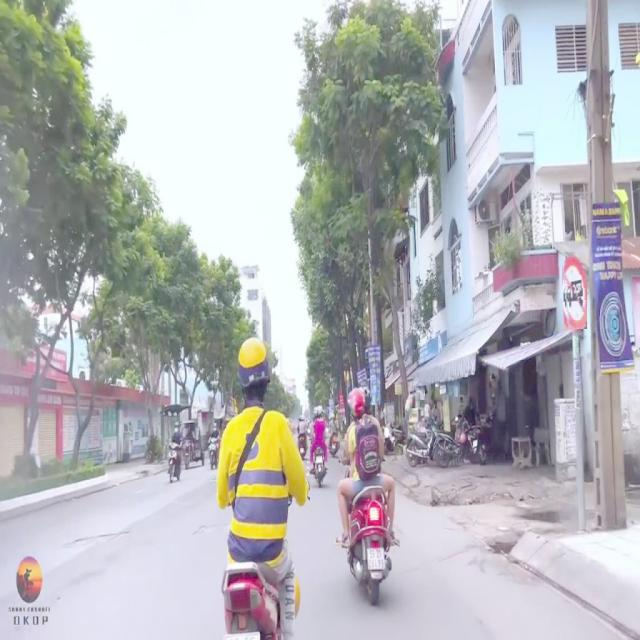cam_o_to_tai_trong_luong_qua_2-5t: (562, 256, 587, 329)
